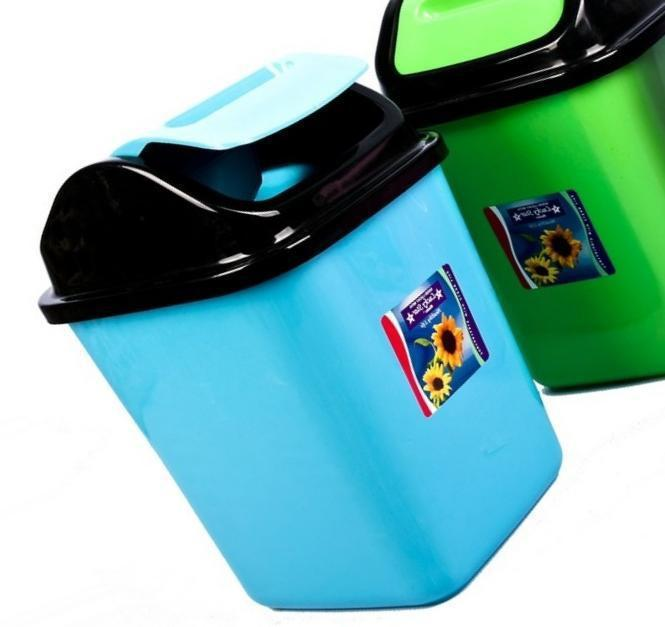Bote de Basura: (37, 66, 568, 626), (391, 0, 664, 399)
